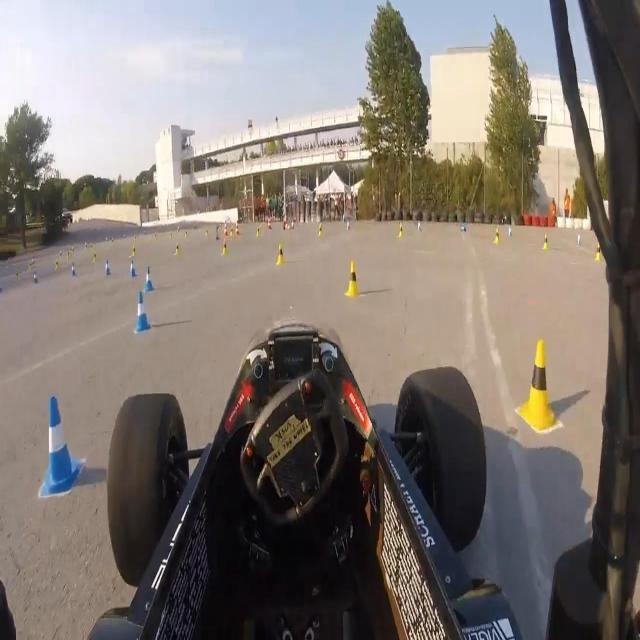blue_cone: (34, 392, 84, 500), (133, 290, 151, 334), (144, 265, 154, 292), (104, 257, 112, 278), (32, 268, 39, 286), (130, 260, 136, 278), (576, 230, 582, 248), (71, 261, 77, 278), (507, 225, 513, 240), (417, 221, 422, 232), (32, 255, 36, 265)
large_orange_cone: (236, 219, 242, 237), (283, 220, 291, 232), (224, 218, 229, 237), (268, 215, 272, 230)
yellow_cone: (517, 329, 561, 441), (344, 258, 361, 300), (276, 240, 285, 269), (542, 230, 550, 250), (595, 242, 602, 262), (495, 227, 501, 246), (318, 223, 325, 239), (222, 238, 228, 256), (54, 258, 60, 273), (131, 243, 137, 258), (398, 221, 403, 238), (175, 242, 180, 256), (93, 250, 97, 264), (230, 226, 234, 240), (256, 226, 260, 238), (184, 229, 188, 241), (204, 226, 208, 238), (66, 252, 71, 261), (29, 260, 32, 274), (170, 231, 172, 240)
